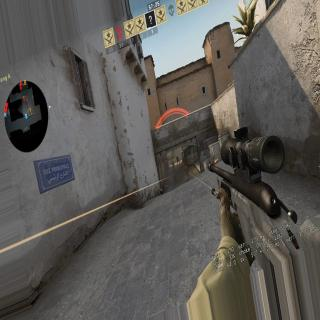T-Body: (183, 164, 191, 182), (171, 160, 176, 173), (176, 155, 180, 166)
T-Head: (184, 164, 186, 167), (176, 155, 178, 158), (172, 160, 173, 162)
